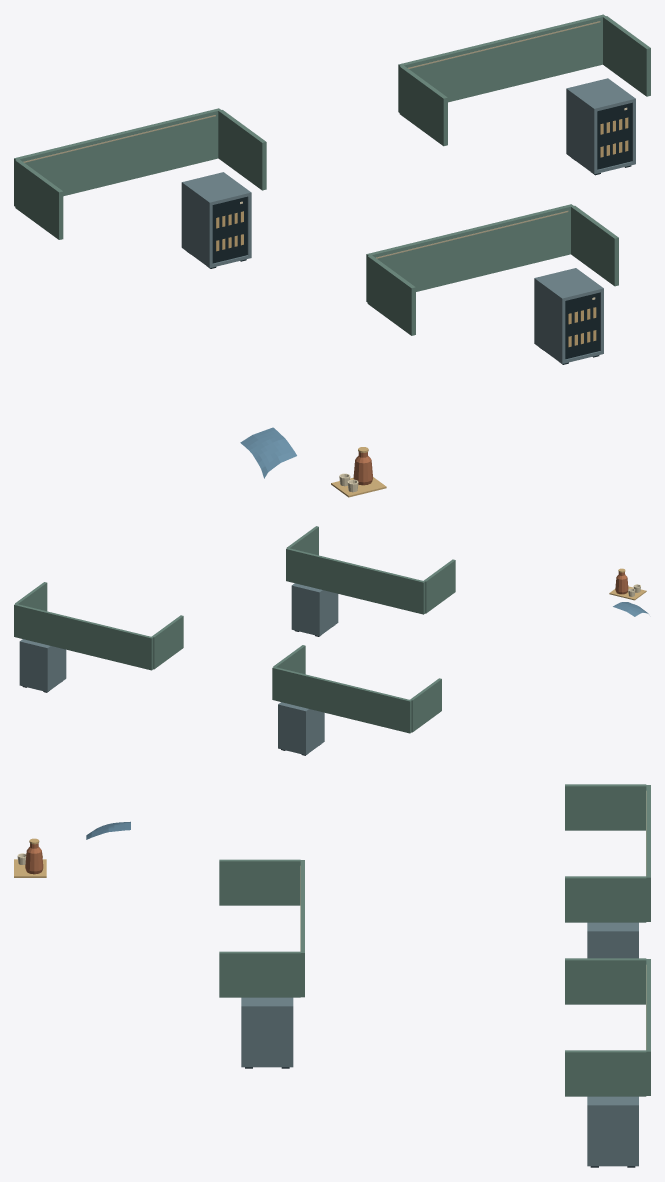
File: office-upgrades.glb
The picture shows the model from 3 angles, top to bottom: view 1: azimuth 30°, elevation 25°; view 2: azimuth 150°, elevation 25°; view 3: azimuth 270°, elevation 25°; orthographic projection. The views are drawn at different scales.
Visible parts, largest first — view 1: UP_quiet_UP_Felt, UP_computers_UP_Metal, UP_computers_UP_Ink, UP_lounge_UP_Cloth, UP_computers_UP_Brass, UP_quiet_UP_FeltSeam; view 2: UP_quiet_UP_Felt, UP_computers_UP_Metal; view 3: UP_quiet_UP_Felt, UP_computers_UP_Metal.
Part boxes in pixels (box(x1,y1,x2,y2)): UP_quiet_UP_Felt: box(14, 14, 650, 335); UP_computers_UP_Metal: box(181, 78, 635, 363); UP_computers_UP_Ink: box(188, 103, 632, 364); UP_lounge_UP_Cloth: box(240, 427, 296, 478); UP_computers_UP_Brass: box(216, 117, 628, 347); UP_quiet_UP_FeltSeam: box(23, 21, 600, 258); UP_quiet_UP_Felt: box(14, 526, 455, 733); UP_computers_UP_Metal: box(19, 583, 338, 755); UP_quiet_UP_Felt: box(219, 784, 650, 1096); UP_computers_UP_Metal: box(241, 922, 638, 1166).
Bounding box in the file's own units: 6.79 × 1.28 × 6.26.
